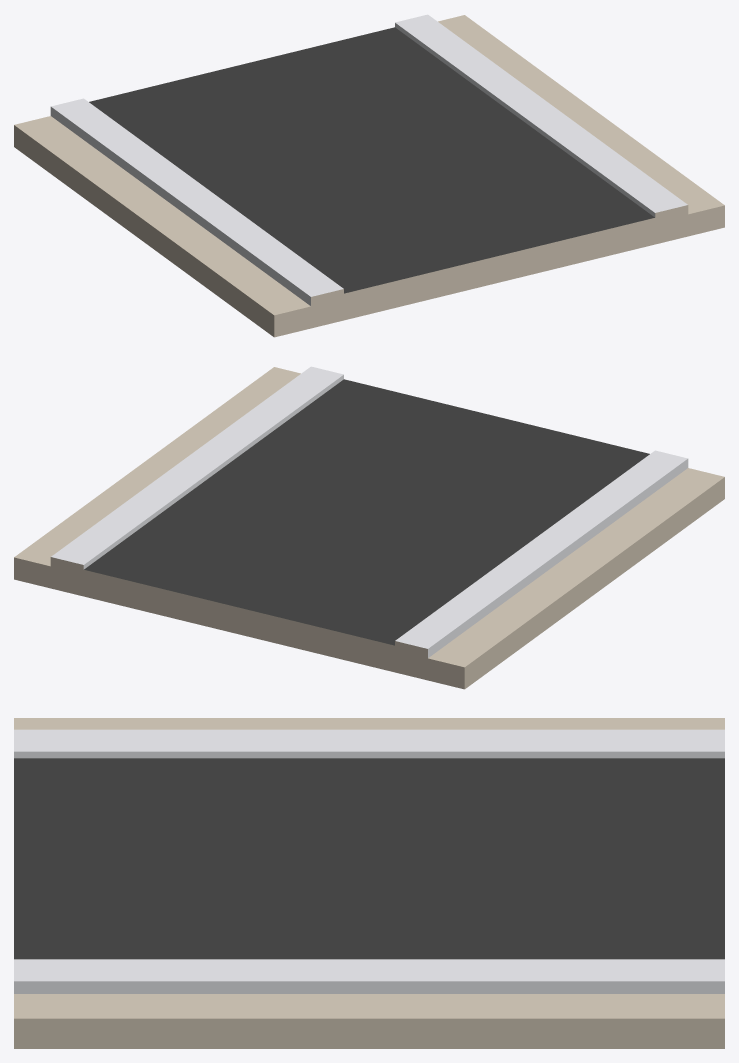
File: roadStraightBridgeMid.fbx
The picture shows the model from 3 angles, top to bottom: view 1: azimuth 30°, elevation 25°; view 2: azimuth 150°, elevation 25°; view 3: azimuth 270°, elevation 25°; orthographic projection. The views are drawn at different scales.
Parts seen in each view (by area): view 1: roadStraightBridgeMid; view 2: roadStraightBridgeMid; view 3: roadStraightBridgeMid.
Boxes of the visible parts, left/top/right/bottom form: roadStraightBridgeMid: left=14, top=14, right=724, bottom=337; roadStraightBridgeMid: left=14, top=366, right=724, bottom=689; roadStraightBridgeMid: left=14, top=718, right=724, bottom=1048.
Bounding box in the file's own units: 1000 × 1000 × 66.85.
